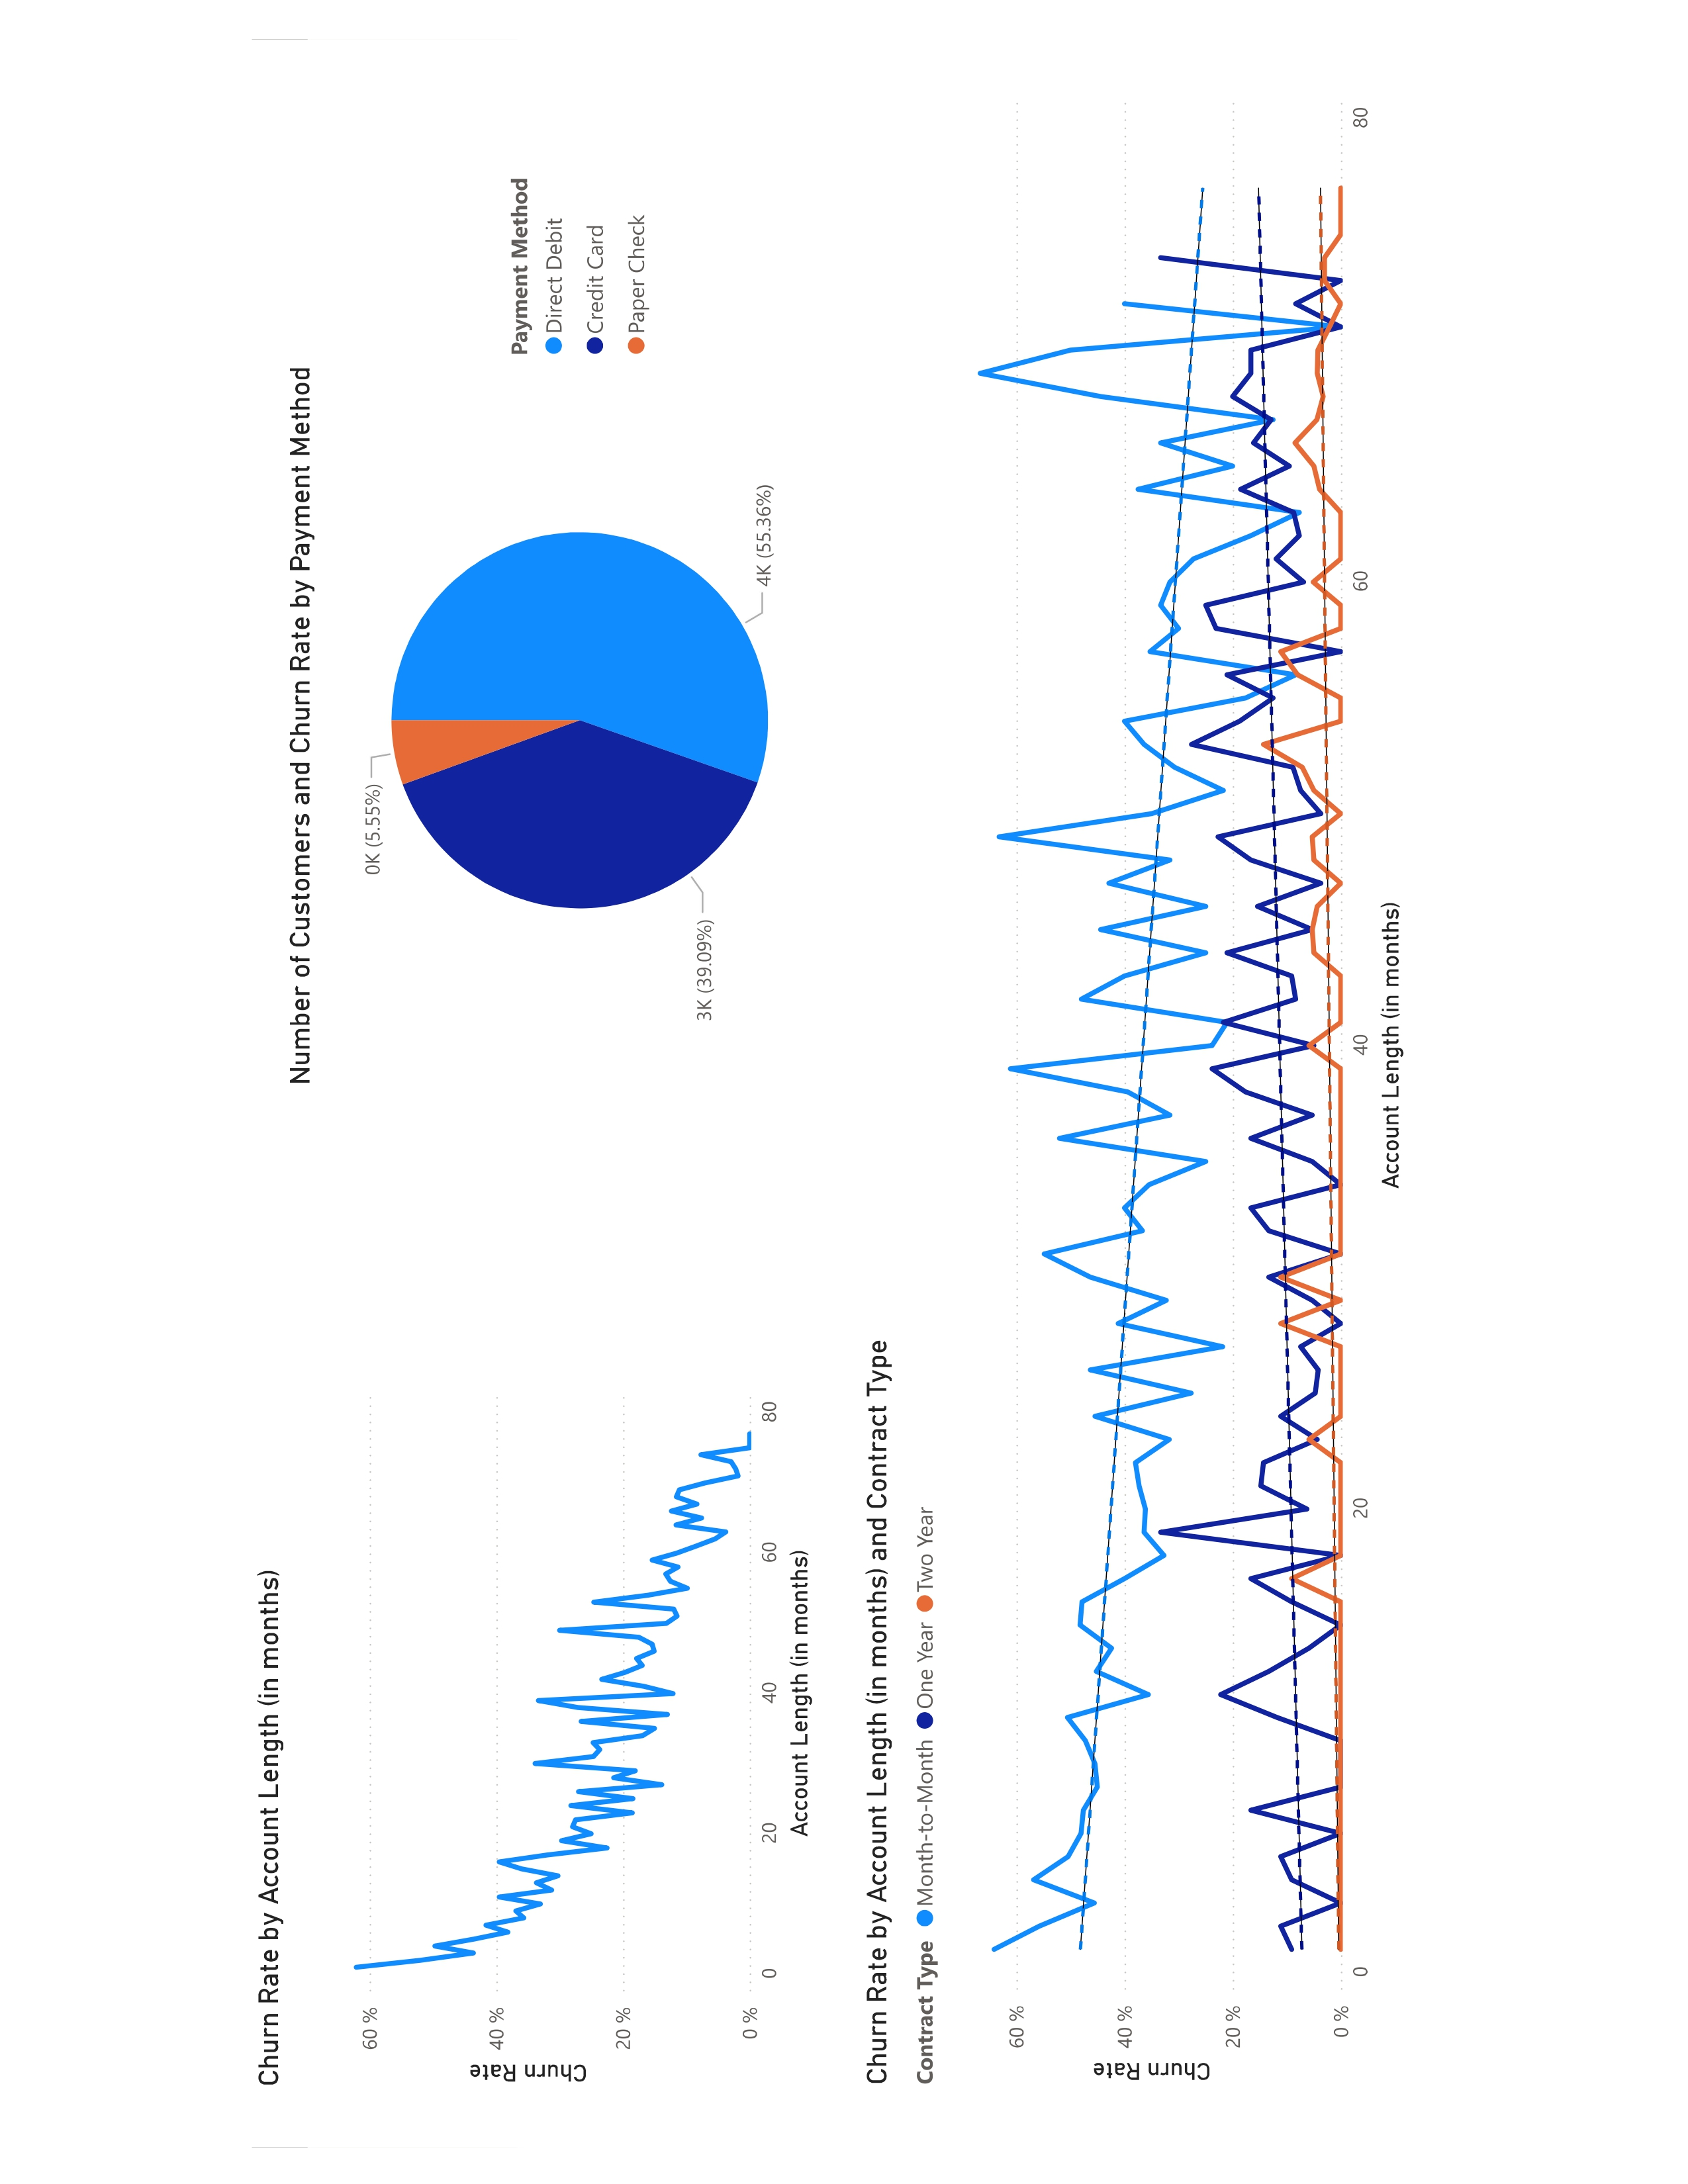

Layout of this report page (visuals, bound fields, positions):
{"tool":"powerbi","page":{"name":"Contract Type","canvas":[1280,720],"ordinal":4},"visuals":[{"type":"lineChart","fields":{"Y":["Databel - Data.Churn Rate"],"Category":["Databel - Data.Account Length (in months)"]},"box":[32.2,0,429.4,344.8],"z":0,"group":"g1"},{"type":"lineChart","fields":{"Y":["Databel - Data.Churn Rate"],"Category":["Databel - Data.Account Length (in months)"],"Series":["Databel - Data.Contract Type"]},"box":[32.8,369.1,1214.5,335.1],"z":0},{"type":"group","id":"g1","title":"Group 1","box":[32.2,0,1184.7,360.3],"z":1000},{"type":"pieChart","fields":{"Category":["Databel - Data.Payment Method"],"Y":["Databel - Data.Number of Customers"]},"box":[640.5,19,576.5,341.3],"z":1000,"group":"g1"}]}

Visuals, with their boxes on the page's 1280x720 design canvas (x1, y1, x2, y2). These are canvas units, not pixel positions in the 1688x2184 screenshot, which may show the page scaled, cropped or inside an application window:
lineChart - Databel - Data.Churn Rate x Databel - Data.Account Length (in months): [left=32, top=0, right=462, bottom=345]
lineChart - Databel - Data.Churn Rate x Databel - Data.Account Length (in months): [left=33, top=369, right=1247, bottom=704]
"Group 1" group: [left=32, top=0, right=1217, bottom=360]
pieChart - Databel - Data.Payment Method x Databel - Data.Number of Customers: [left=640, top=19, right=1217, bottom=360]
